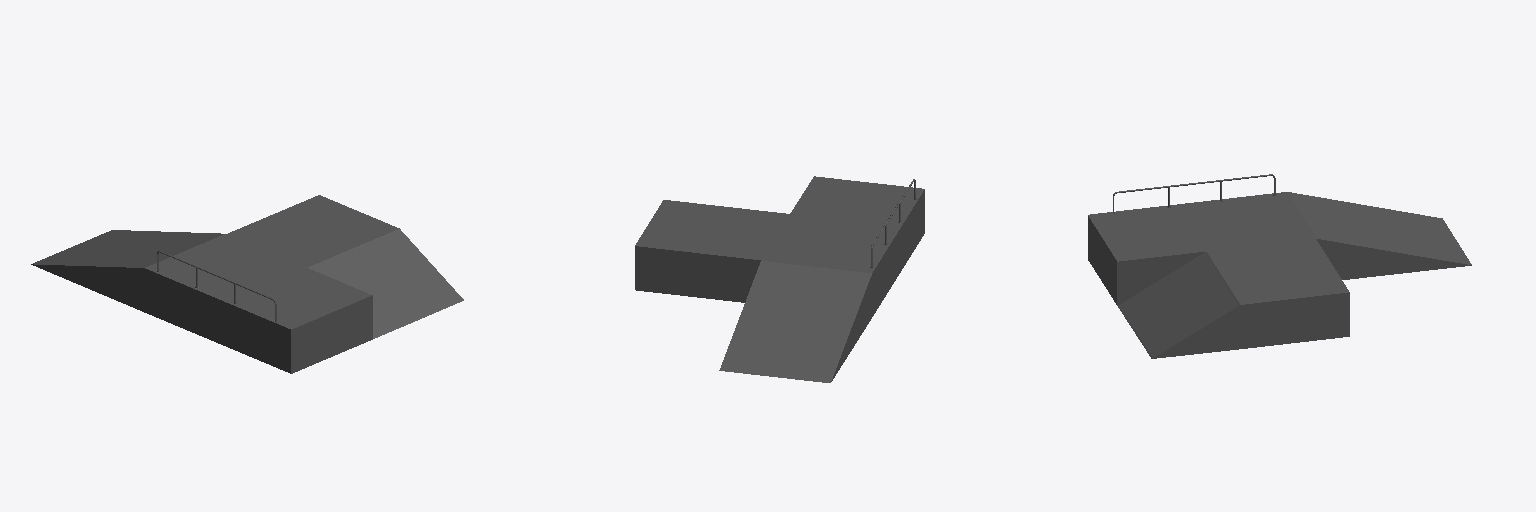
The model's file is ramp05.obj.
The picture shows the model from 3 angles: view 1: azimuth 30°, elevation 25°; view 2: azimuth 150°, elevation 25°; view 3: azimuth 270°, elevation 25°; orthographic projection.
Parts seen in each view (by area): view 1: Skate_Ramp_Fun_Box_05_Skate_Ramp; view 2: Skate_Ramp_Fun_Box_05_Skate_Ramp; view 3: Skate_Ramp_Fun_Box_05_Skate_Ramp.
Part boxes in pixels (x1,y1,x2,y2): Skate_Ramp_Fun_Box_05_Skate_Ramp: (31,195,463,373); Skate_Ramp_Fun_Box_05_Skate_Ramp: (635,176,924,382); Skate_Ramp_Fun_Box_05_Skate_Ramp: (1088,192,1471,358).
Size of the model in its own units: 603 by 131 by 697.